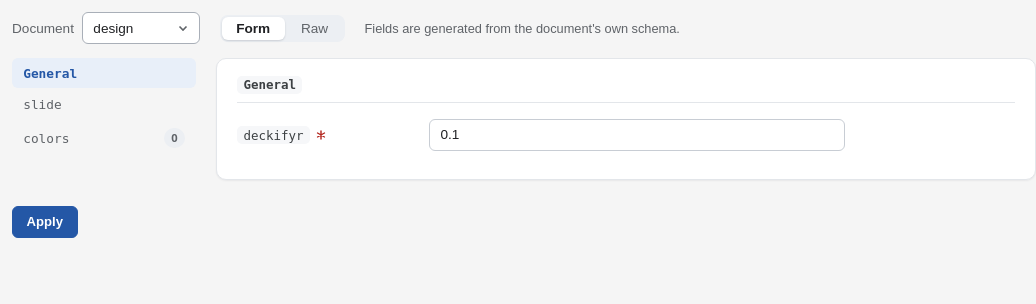
ConfigEditor › lists the document's sections in a rail and switches the pane
The image size is (1036, 304).
Expected: the field showing "0.1" is shown, x1=429 y1=119 x2=845 y2=151
Click the button "slide" at (104,104), box x1=12 y1=90 x2=196 y2=119
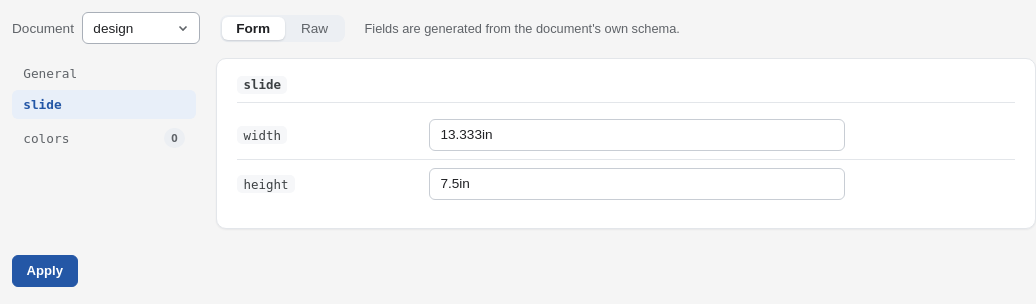
Expected: the field showing "0.1" is not shown
Expected: the field showing "13.333in" is shown, x1=429 y1=119 x2=845 y2=151
